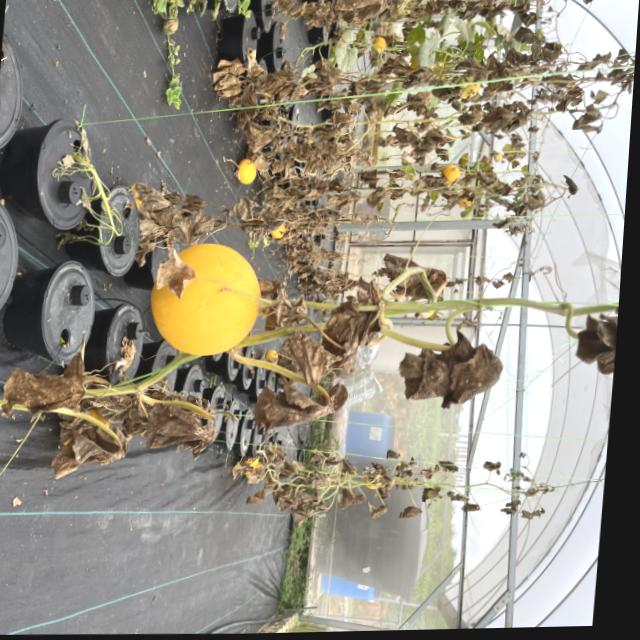bacterial wilt: (396, 336, 509, 415), (318, 273, 391, 372), (247, 380, 354, 434), (45, 425, 127, 485), (3, 367, 87, 409), (149, 404, 211, 457), (576, 300, 619, 367), (510, 22, 540, 45)
